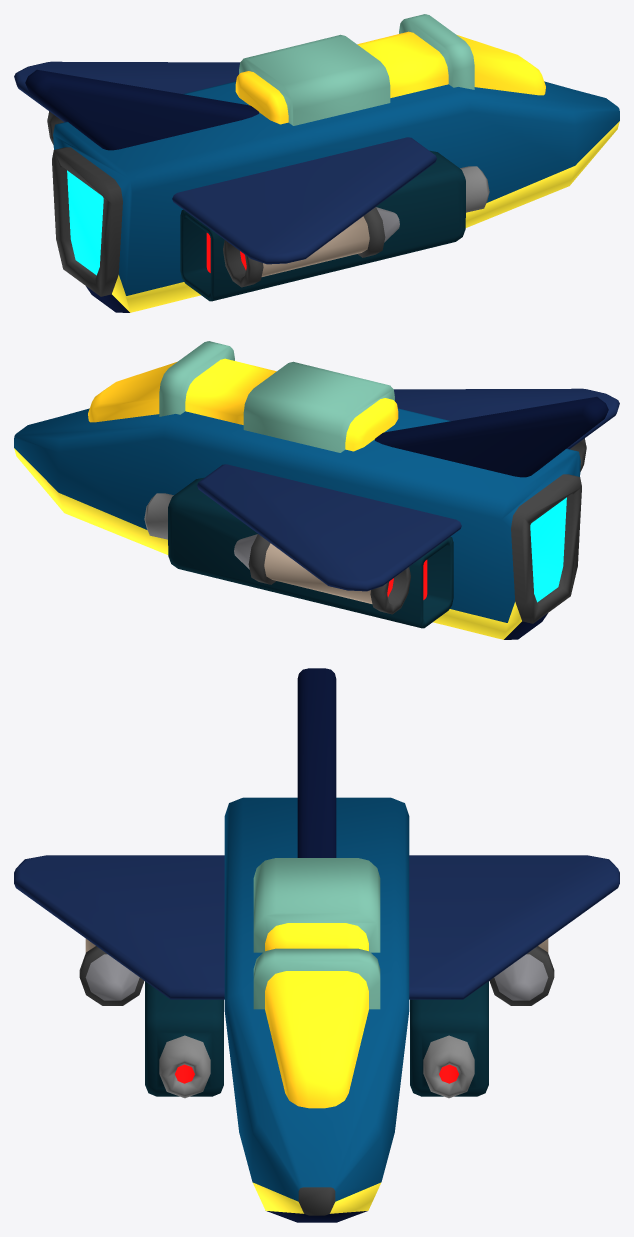
File: blueSpaceship.glb
3 views of the same model, one above another, from view 1: azimuth 30°, elevation 25°; view 2: azimuth 150°, elevation 25°; view 3: azimuth 270°, elevation 25° (orthographic). The views are drawn at different scales.
Visible parts, largest first — view 1: Cube.007, Cube.013, Cube.021, Cube.020; view 2: Cube.007, Cube.013, Cube.021, Cube.020; view 3: Cube.013, Cube.007, Cube.021, Cube.020.
Boxes of the visible parts, <box> form: Cube.007: <box>52,81,619,312</box>; Cube.013: <box>14,61,489,301</box>; Cube.021: <box>235,14,545,125</box>; Cube.020: <box>25,69,259,150</box>; Cube.007: <box>14,408,581,639</box>; Cube.013: <box>144,388,619,628</box>; Cube.021: <box>88,341,398,452</box>; Cube.020: <box>374,396,608,477</box>; Cube.013: <box>14,855,619,1098</box>; Cube.007: <box>224,797,409,1222</box>; Cube.021: <box>253,858,380,1108</box>; Cube.020: <box>297,668,336,857</box>.
Size of the model in its own units: 4.37 by 1.76 by 3.39.
4 materials, 1 textured.
